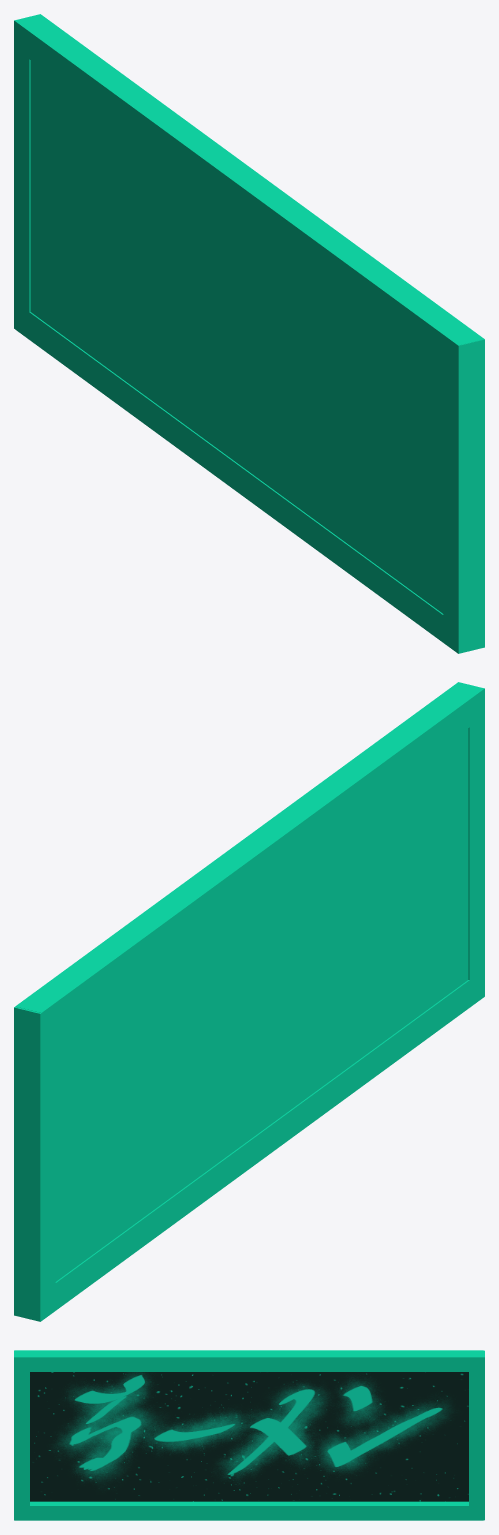
The model's file is sign1.fbx.
3 renders of one model, top to bottom at view 1: azimuth 30°, elevation 25°; view 2: azimuth 150°, elevation 25°; view 3: azimuth 270°, elevation 25°, orthographic. The views are drawn at different scales.
Parts seen in each view (by area): view 1: Cube.006; view 2: Cube.006; view 3: Cube.006.
Boxes of the visible parts, box(x1,y1,x2,y2) form: Cube.006: box(14, 14, 484, 653); Cube.006: box(14, 682, 484, 1321); Cube.006: box(14, 1350, 484, 1520).
Size of the model in its own units: 17.96 by 200 by 523.
